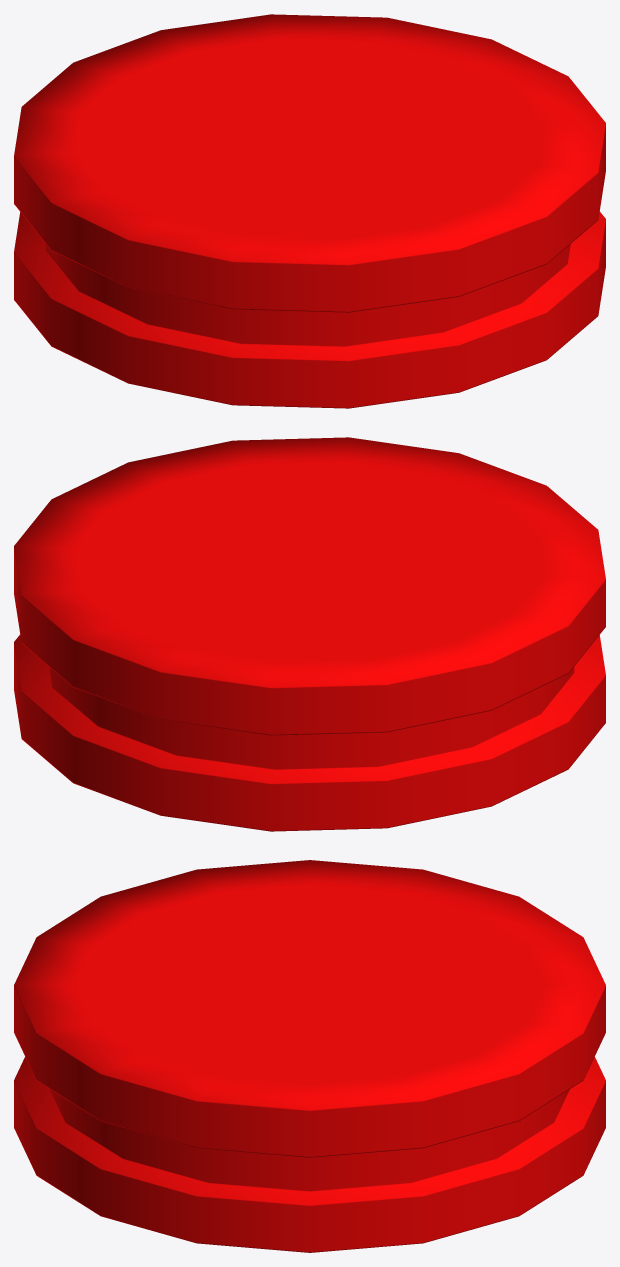
Rendered from sm_PipeConnector.fbx.
3 renders of one model, top to bottom at view 1: azimuth 30°, elevation 25°; view 2: azimuth 150°, elevation 25°; view 3: azimuth 270°, elevation 25°, orthographic.
Visible parts, largest first — view 1: Cylinder; view 2: Cylinder; view 3: Cylinder.
Boxes of the visible parts, bbox=[...] form: Cylinder: bbox=[14, 14, 605, 408]; Cylinder: bbox=[14, 437, 605, 831]; Cylinder: bbox=[14, 860, 605, 1252].
Bounding box in the file's own units: 75.16 × 20 × 75.16.
